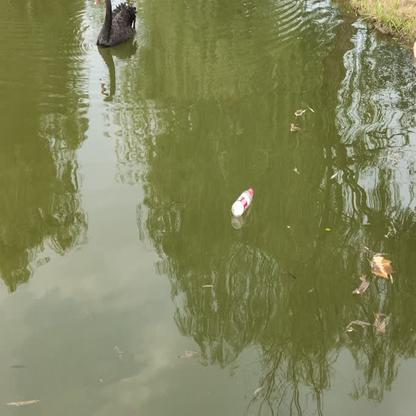plastic bottle: (231, 185, 255, 218)
